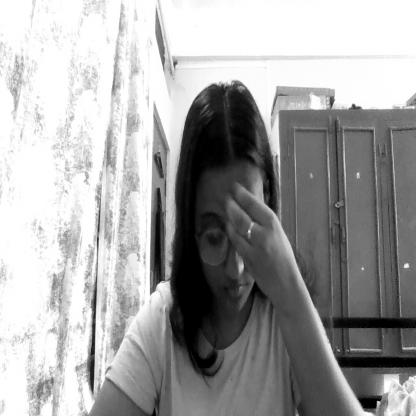Distracted: (185, 98, 269, 320)
